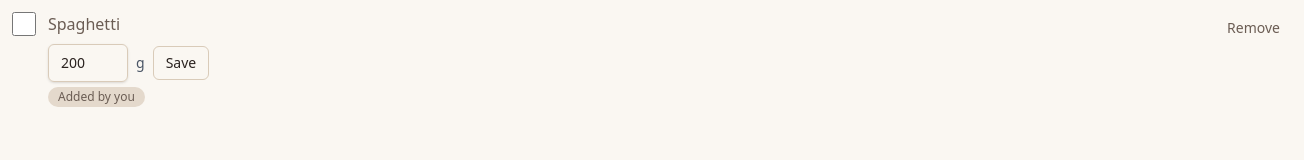
Test case: ShoppingListItemRow › quantity edit (TEST-154) › rejects a quantity that is zero, with a message on the field, and keeps the previous value (AC3)
This screenshot has width=1304, height=160.
Step 1. Replace the text in the number field named "quantity for spaghetti" with "0" → (88, 63), box [48,44,128,82]
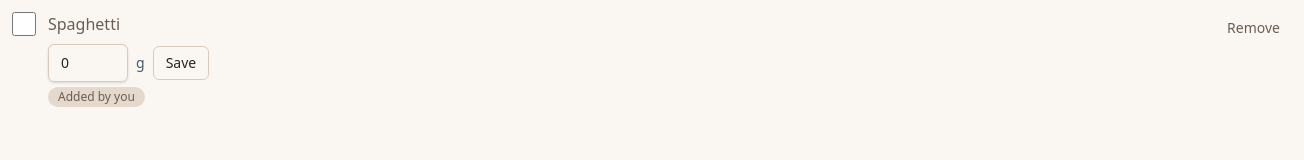
Step 2. Click the button "Save" → click(181, 63), box [153,46,209,80]
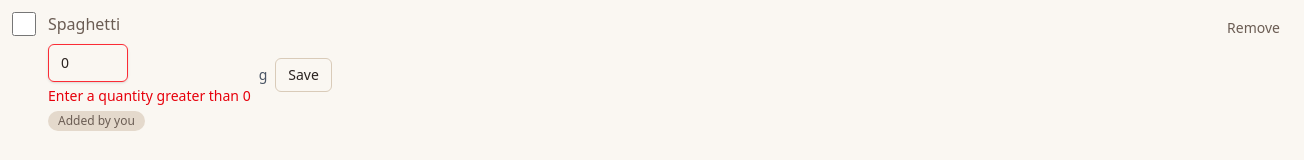
Now the text "Enter a quantity greater than 0" is shown, box [48,86,251,106]
